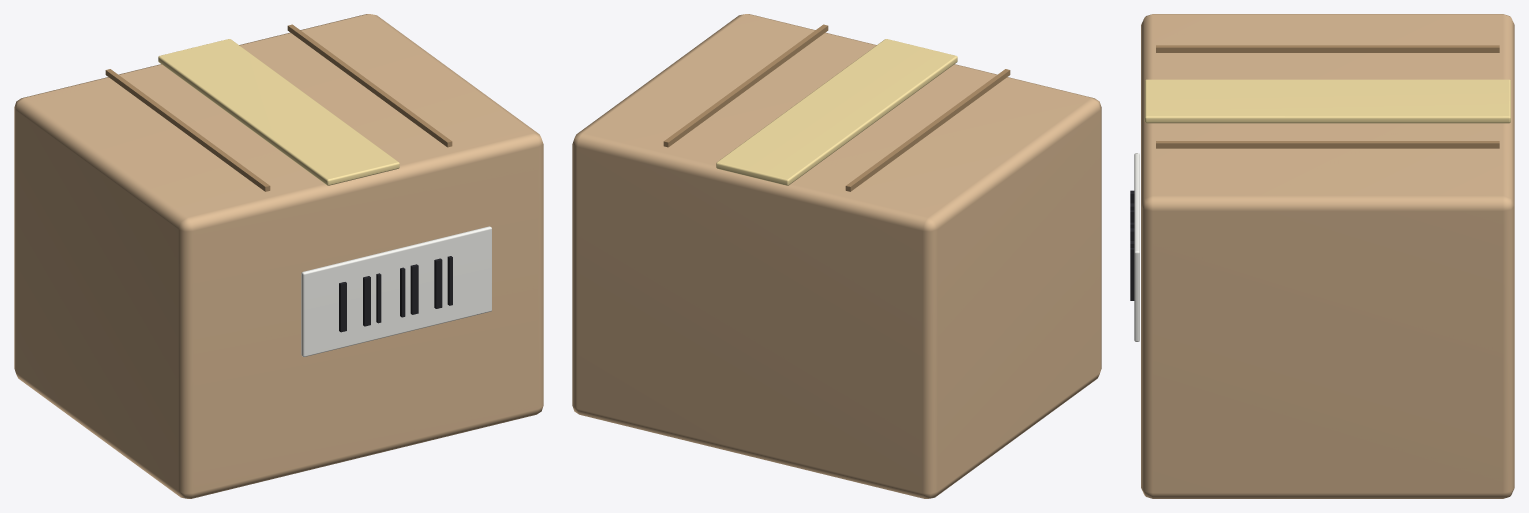
The model's file is parcel-box.glb.
The picture shows the model from 3 angles, left to right: view 1: azimuth 30°, elevation 25°; view 2: azimuth 150°, elevation 25°; view 3: azimuth 270°, elevation 25°; orthographic projection. The views are drawn at different scales.
Visible parts, largest first — view 1: corrugated carton body, front printed label, top packing tape, left folded top flap edge, right folded top flap edge; view 2: corrugated carton body, top packing tape, left folded top flap edge, right folded top flap edge; view 3: corrugated carton body, top packing tape, left folded top flap edge, right folded top flap edge, front printed label.
Part boxes in pixels (bbox=[...]): corrugated carton body: bbox=[14, 14, 543, 498]; front printed label: bbox=[301, 226, 491, 356]; top packing tape: bbox=[158, 39, 399, 185]; left folded top flap edge: bbox=[105, 69, 270, 191]; right folded top flap edge: bbox=[287, 24, 452, 147]; corrugated carton body: bbox=[572, 14, 1101, 498]; top packing tape: bbox=[716, 39, 957, 185]; left folded top flap edge: bbox=[845, 69, 1010, 191]; right folded top flap edge: bbox=[663, 24, 828, 147]; corrugated carton body: bbox=[1141, 14, 1514, 498]; top packing tape: bbox=[1144, 79, 1510, 123]; left folded top flap edge: bbox=[1156, 45, 1499, 52]; right folded top flap edge: bbox=[1156, 141, 1499, 148]; front printed label: bbox=[1134, 153, 1139, 341].
Size of the model in its own units: 0.46 by 0.352 by 0.391.
